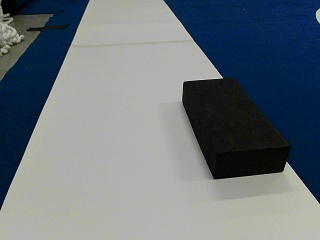block: (184, 79, 288, 178)
